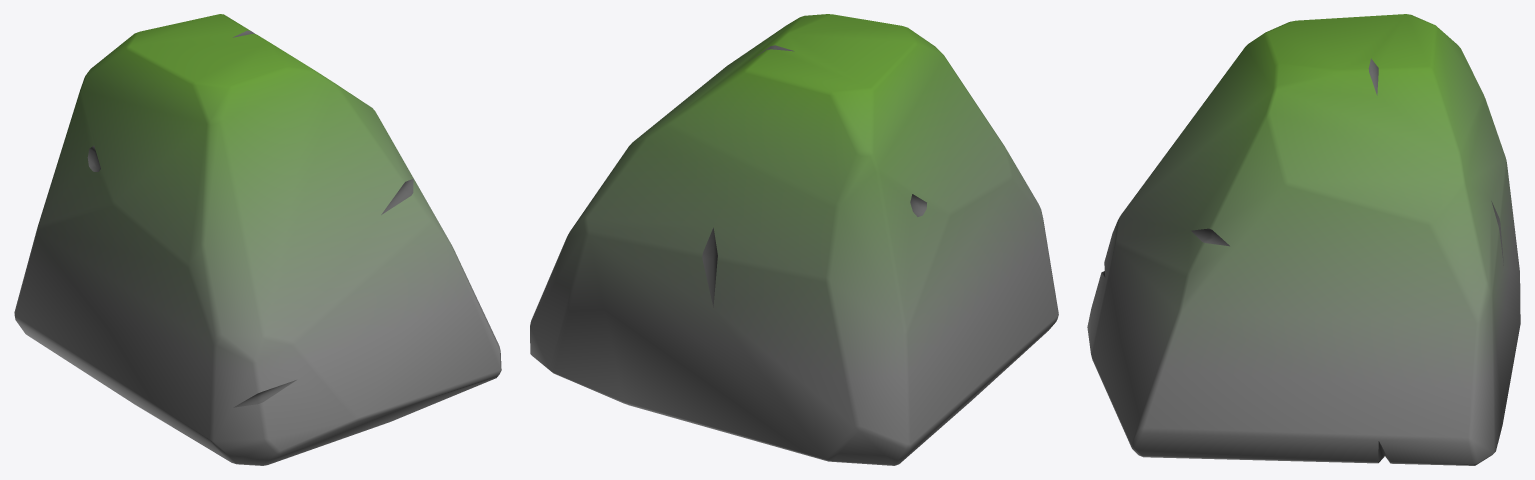
File: Rock08_1.fbx
3 renders of one model, left to right at view 1: azimuth 30°, elevation 25°; view 2: azimuth 150°, elevation 25°; view 3: azimuth 270°, elevation 25°, orthographic. The views are drawn at different scales.
Visible parts, largest first — view 1: LOD0; view 2: LOD0; view 3: LOD0.
Boxes of the visible parts, <box> form: LOD0: <box>14,14,501,465</box>; LOD0: <box>530,14,1058,465</box>; LOD0: <box>1087,14,1520,465</box>.
Size of what is drawn, in the model's own units: 492 by 485 by 412.
